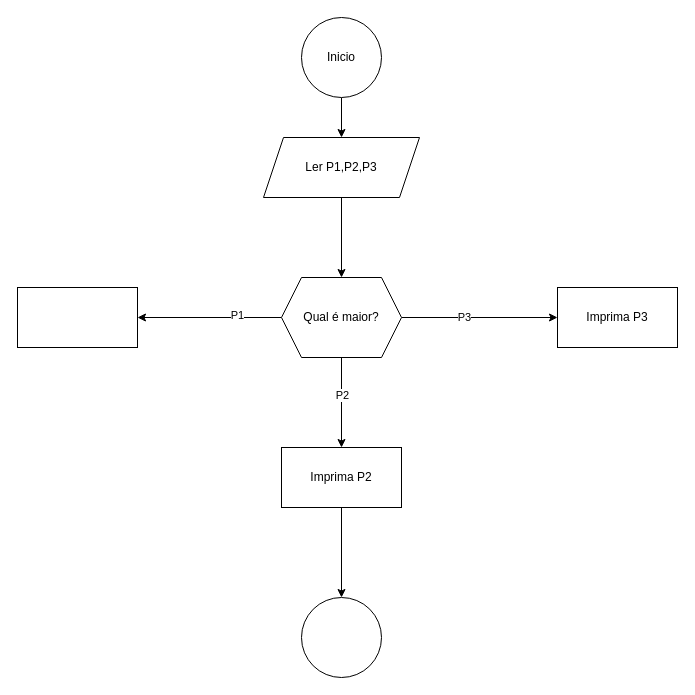
This 695x695 diagram has some shape labels left out. The shapes that lost their labels are listed below. From the top down, each one's centre as x and y in pixels, then its label:
At point (77, 317): "Imprima P1".
At point (341, 637): "Fim".
